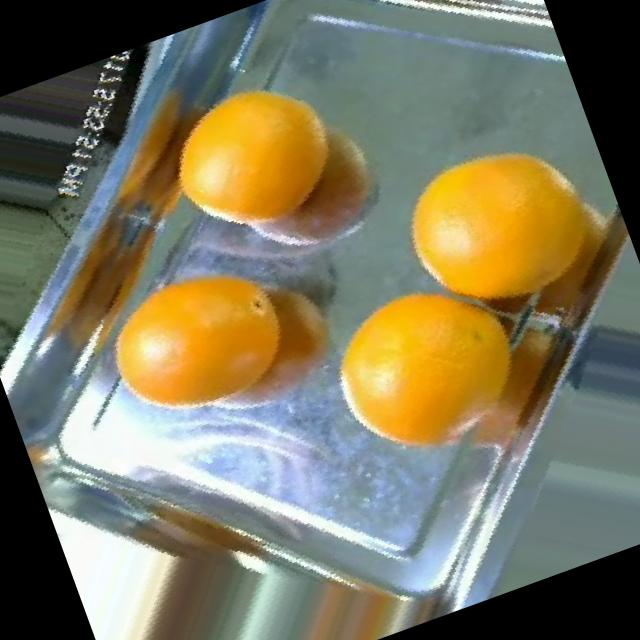Fruit: (164, 18, 424, 302), (286, 238, 559, 500), (0, 267, 54, 422)
